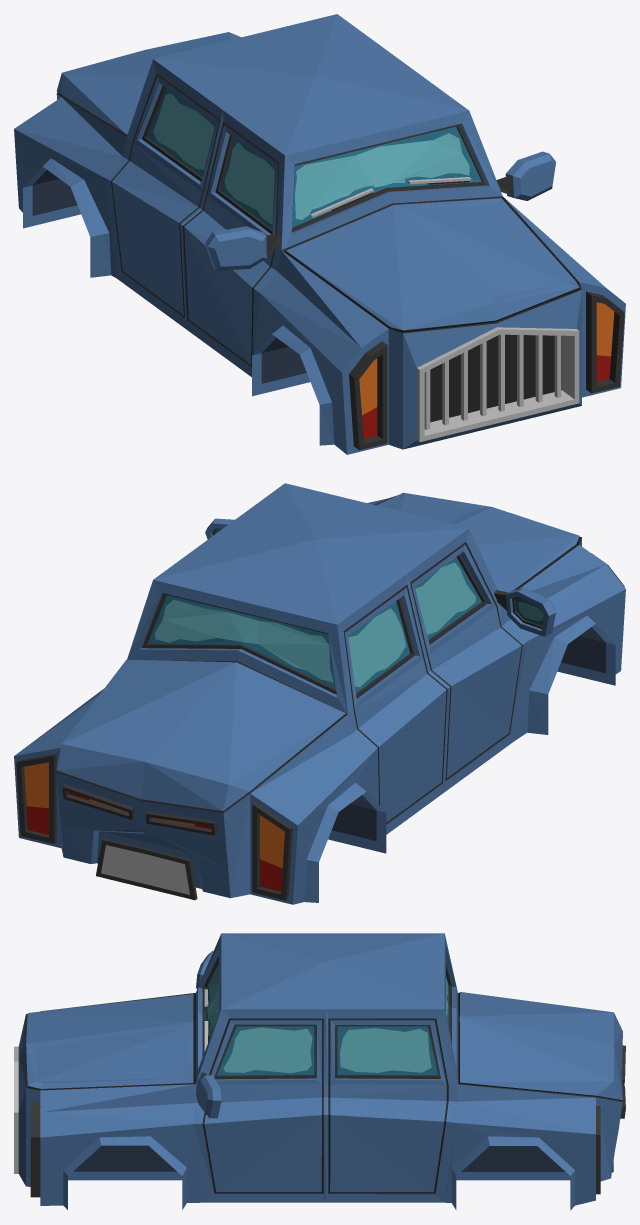
File: Car_A_03.FBX
3 views of the same model, one above another, from view 1: azimuth 30°, elevation 25°; view 2: azimuth 150°, elevation 25°; view 3: azimuth 270°, elevation 25° (orthographic). The views are drawn at different scales.
Visible parts, largest first — view 1: Car_A_03; view 2: Car_A_03; view 3: Car_A_03.
Boxes of the visible parts, x1,y1,x2,y2 form: Car_A_03: [14, 14, 625, 454]; Car_A_03: [14, 483, 625, 904]; Car_A_03: [14, 933, 625, 1210].
Bounding box in the file's own units: 3.61 × 2.23 × 6.49.
